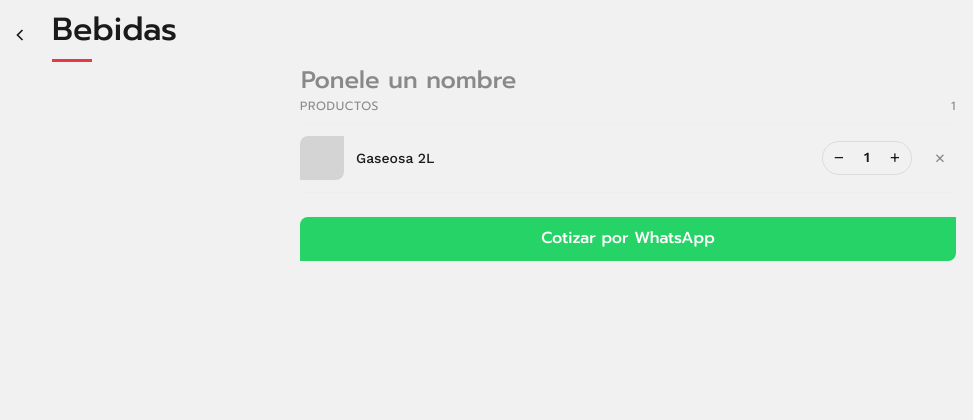
Test: DetalleQuodom guest WhatsApp send (logged-in guest cart) › keeps the cart in localStorage when the migration fails
This screenshot has width=973, height=420.
Expected: the text "Gaseosa 2L" is shown, 356,148 -> 434,167
What coordinates should you click on to do the following:
click the button "Cotizar por WhatsApp"
I would click on:
 (628, 239)
Its box is 300,217 -> 956,261.
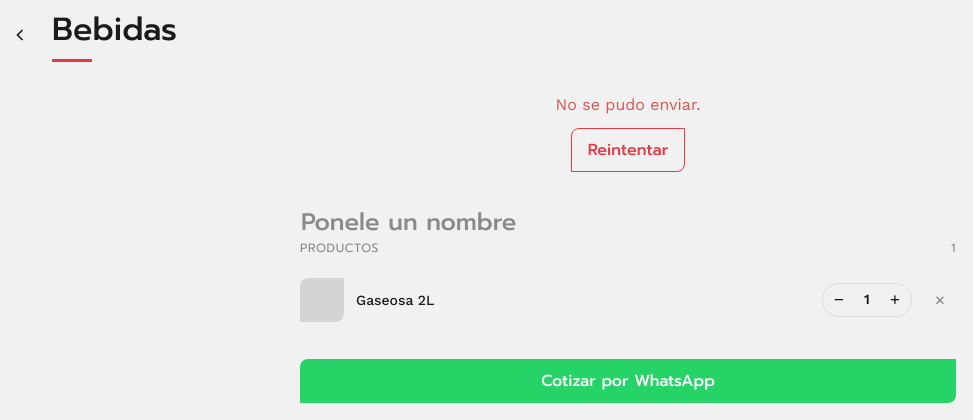
Expected: the text "No se pudo enviar." is shown, 556,95 -> 700,114
